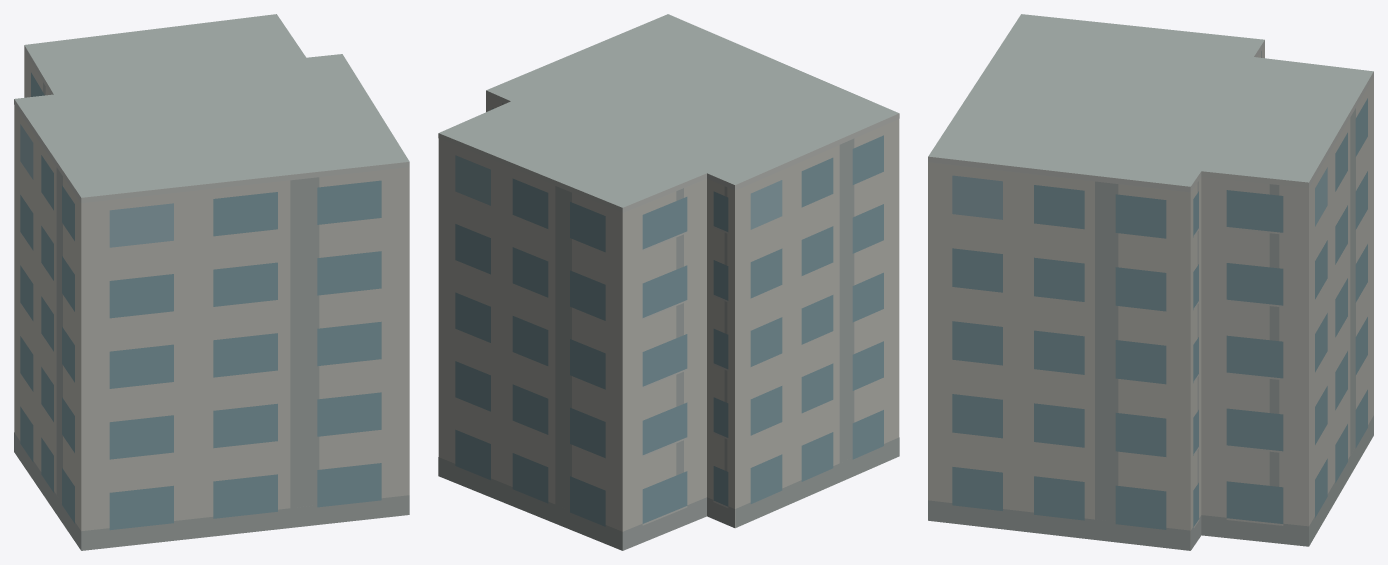
File: survey-upis-33021315.glb
3 renders of one model, left to right at view 1: azimuth 30°, elevation 25°; view 2: azimuth 150°, elevation 25°; view 3: azimuth 270°, elevation 25°, orthographic. The views are drawn at different scales.
Parts seen in each view (by area): view 1: survey-upis-33021315.tmp; view 2: survey-upis-33021315.tmp; view 3: survey-upis-33021315.tmp.
Part boxes in pixels (x1,y1,x2,y2): survey-upis-33021315.tmp: (14, 14, 409, 550); survey-upis-33021315.tmp: (438, 14, 899, 550); survey-upis-33021315.tmp: (928, 14, 1373, 550).
Size of the model in its own units: 15.94 by 15.65 by 17.37.
